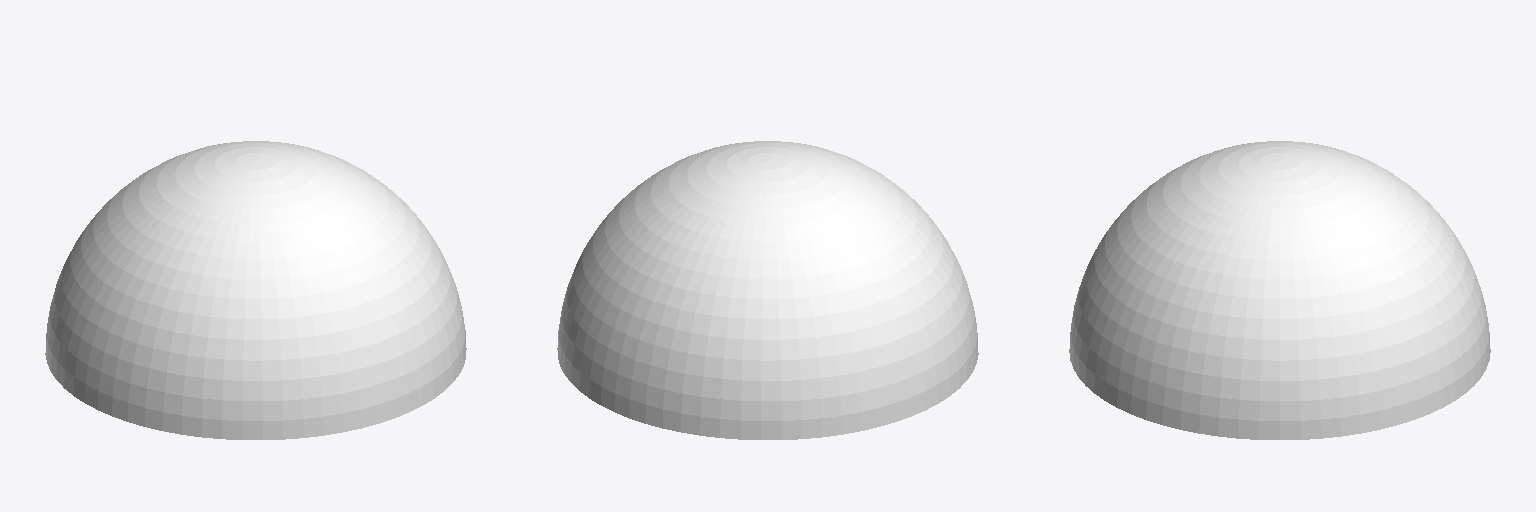
File: sky.obj
3 views of the same model, side by side, from view 1: azimuth 30°, elevation 25°; view 2: azimuth 150°, elevation 25°; view 3: azimuth 270°, elevation 25° (orthographic).
Parts seen in each view (by area): view 1: Sphere; view 2: Sphere; view 3: Sphere.
Part boxes in pixels (left/top/right/bottom): Sphere: left=45, top=141, right=466, bottom=439; Sphere: left=557, top=141, right=978, bottom=439; Sphere: left=1069, top=141, right=1490, bottom=439.
Bounding box in the file's own units: 97.36 × 48.68 × 97.36.